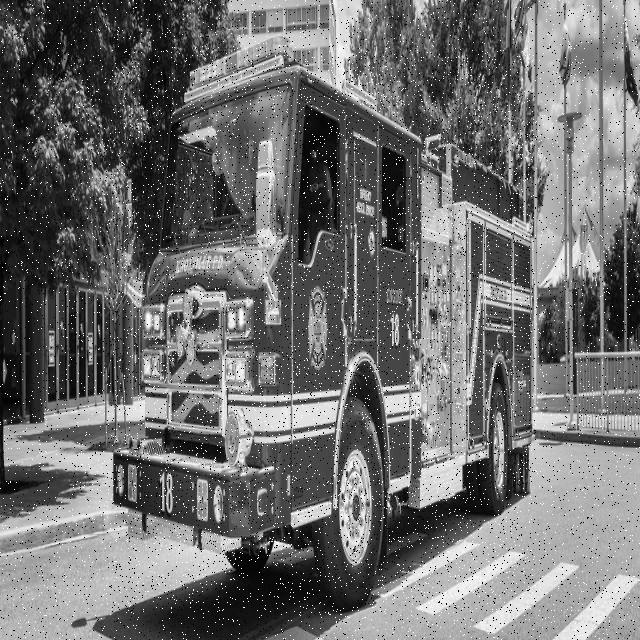Fire Truck: (112, 51, 537, 613)
